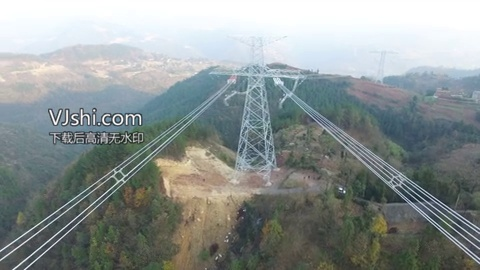tower_body: (221, 25, 296, 187)
tower_foot: (235, 131, 280, 183)
tower_head: (224, 29, 289, 49)
